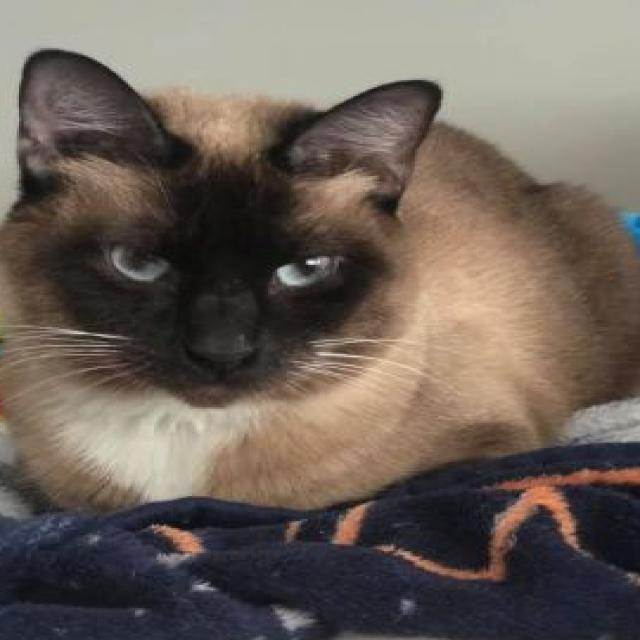Siamese: (0, 36, 640, 530)
